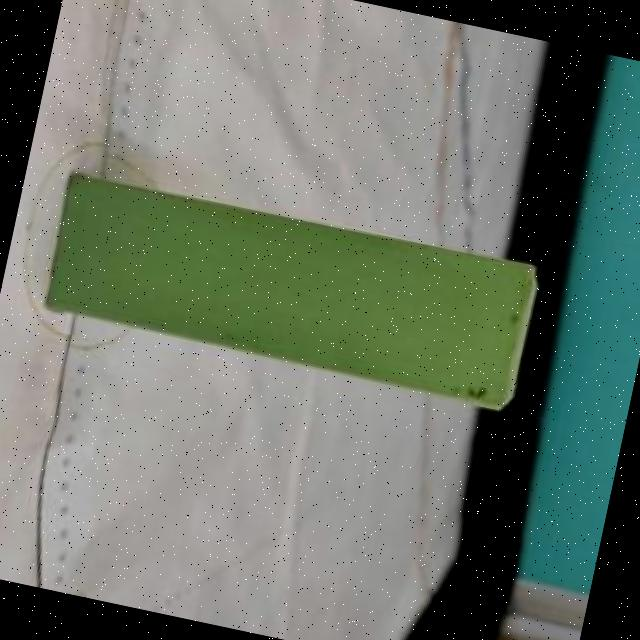greenbox: (34, 168, 536, 410)
